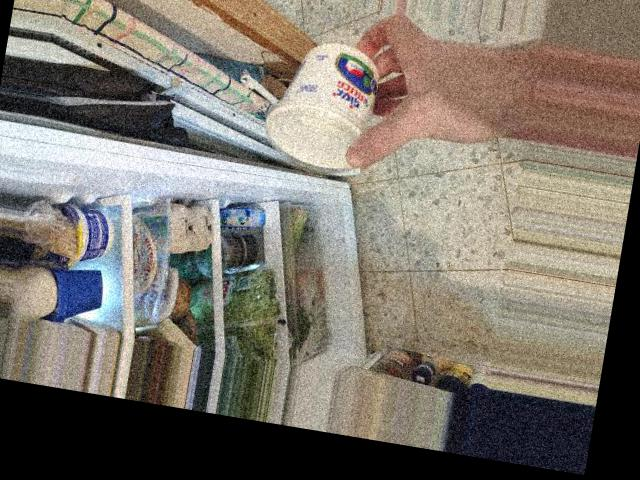cotage: (267, 34, 394, 174)
